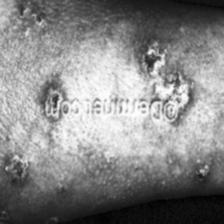Non-Cancerous Skin Condition: (138, 34, 188, 114), (14, 0, 52, 32), (1, 151, 32, 189), (41, 86, 67, 124), (192, 163, 208, 185), (38, 215, 64, 224)
